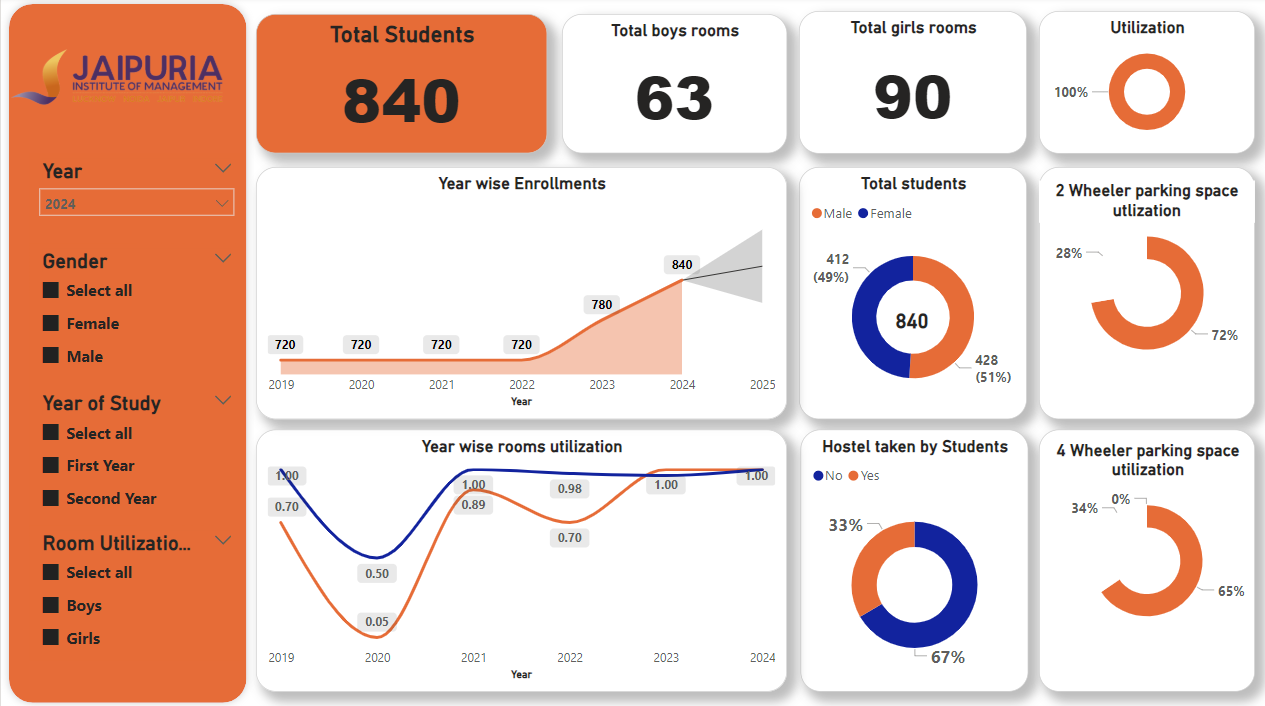

This screenshot's page, from the dashboard's own definition file:
{"tool":"powerbi","page":{"name":"Page 1","canvas":[1280,720],"ordinal":0},"visuals":[{"type":"shape","box":[0,0,255.7,721.4],"z":0},{"type":"textbox","box":[290,0,96.7,48.3],"z":1000},{"type":"card","title":"Total Students","fields":{"Values":["detailed_dashboard_data.Total number of students"]},"box":[257.4,18.2,293.8,140.8],"z":2000},{"type":"card","title":"Total boys rooms","fields":{"Values":["Min(Hostel.Total rooms(b))"]},"box":[566.3,18.2,227.1,140.8],"z":3000},{"type":"card","title":"Total girls rooms ","fields":{"Values":["Min(Hostel.Total rooms(g) )"]},"box":[805.6,15.1,230.2,143.8],"z":4000},{"type":"slicer","fields":{"Values":["Hostel.Year"]},"box":[28.8,159,216.5,140.8],"z":5000},{"type":"image","box":[1.5,48.5,230.2,66.6],"z":6000},{"type":"slicer","fields":{"Values":["detailed_dashboard_data.Gender"]},"box":[28.8,249.8,216.5,143.8],"z":7000},{"type":"donutChart","title":"Total students","fields":{"Category":["detailed_dashboard_data.Gender"],"Y":["CountNonNull(detailed_dashboard_data.Gender)"]},"box":[805.6,172.6,230.2,254.4],"z":8000},{"type":"card","fields":{"Values":["detailed_dashboard_data.Total number of students"]},"box":[887.3,299.8,65.1,57.5],"z":9000},{"type":"lineChart","title":"Year wise Enrollments","fields":{"Category":["detailed_dashboard_data.Year"],"Y":["CountNonNull(detailed_dashboard_data.Enrollment ID)"]},"box":[257.4,172.6,536,254.4],"z":10000},{"type":"slicer","fields":{"Values":["detailed_dashboard_data.Year of Study"]},"box":[28.8,393.7,216.5,160.5],"z":11000},{"type":"donutChart","title":"Hostel taken by Students","fields":{"Category":["detailed_dashboard_data.Hostel Taken "],"Y":["CountNonNull(detailed_dashboard_data.Hostel Taken )"]},"box":[807.1,437.6,230.2,265],"z":12000},{"type":"slicer","fields":{"Values":["Sheet1.Gender"]},"box":[28.8,534.5,216.5,136.3],"z":13000},{"type":"lineChart","title":"Year wise rooms utilization","fields":{"Category":["Sheet1 (2).Year"],"Y":["Sum(Sheet1 (2).Utilization (b))","Sum(Sheet1 (2).Utilization (g))"]},"box":[257.4,437.6,536,265],"z":14000},{"type":"donutChart","title":"Utilization","fields":{"Category":["Sheet1 (4).Filled/vacant"],"Y":["CountNonNull(Sheet1 (4).Filled/vacant)"]},"box":[1047.8,15.1,218,143.8],"z":15000},{"type":"donutChart","fields":{"Category":["Vehicle type (Sheet1) (2).Column2"],"Y":["CountNonNull(Vehicle type (Sheet1) (2).Column2)"]},"box":[1047.8,172.6,218,254.4],"z":16000},{"type":"donutChart","fields":{"Category":["Vehicle type (Sheet1) (2).Column2"],"Y":["CountNonNull(Vehicle type (Sheet1) (2).Column2)"]},"box":[1047.8,437.6,218,265],"z":17000},{"type":"slicer","title":"4 Wheeler parking space utilization","fields":{"Values":["Vehicle type (Sheet1) (2).Column1"]},"box":[1056.3,448.4,202.1,48.9],"z":17001},{"type":"slicer","title":"2 Wheeler parking space utlization","fields":{"Values":["Vehicle type (Sheet1) (2).Column1"]},"box":[1048.4,186.3,217.9,42.6],"z":17002}]}

Visuals, with their boxes in screenshot pixels (x1, y1, x2, y2), scaled from the page's 1280x720 canvas onto the 1265x706 screenshot:
shape: box(0, 0, 253, 705)
textbox: box(287, 0, 382, 47)
"Total Students" card: box(254, 18, 545, 156)
"Total boys rooms" card: box(560, 18, 784, 156)
"Total girls rooms " card: box(796, 15, 1024, 156)
slicer - Hostel.Year: box(28, 156, 242, 294)
image: box(1, 48, 229, 113)
slicer - detailed_dashboard_data.Gender: box(28, 245, 242, 386)
"Total students" donutChart: box(796, 169, 1024, 419)
card - detailed_dashboard_data.Total number of students: box(877, 294, 941, 350)
"Year wise Enrollments" lineChart: box(254, 169, 784, 419)
slicer - detailed_dashboard_data.Year of Study: box(28, 386, 242, 543)
"Hostel taken by Students" donutChart: box(798, 429, 1025, 689)
slicer - Sheet1.Gender: box(28, 524, 242, 658)
"Year wise rooms utilization" lineChart: box(254, 429, 784, 689)
"Utilization" donutChart: box(1036, 15, 1251, 156)
donutChart - Vehicle type (Sheet1) (2).Column2 x CountNonNull(Vehicle type (Sheet1) (2).Column2): box(1036, 169, 1251, 419)
donutChart - Vehicle type (Sheet1) (2).Column2 x CountNonNull(Vehicle type (Sheet1) (2).Column2): box(1036, 429, 1251, 689)
"4 Wheeler parking space utilization" slicer: box(1044, 440, 1244, 488)
"2 Wheeler parking space utlization" slicer: box(1036, 183, 1251, 224)
